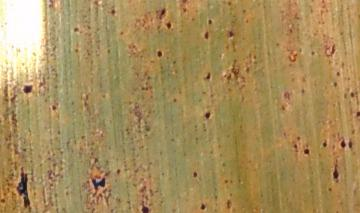tarspot: (15, 167, 31, 208), (91, 176, 106, 190), (331, 162, 339, 180), (21, 83, 34, 94), (159, 7, 166, 20), (155, 48, 164, 58), (203, 110, 212, 120), (226, 27, 235, 37), (302, 146, 311, 156), (339, 136, 346, 148), (140, 205, 150, 213), (204, 72, 212, 81), (199, 203, 208, 211), (203, 31, 210, 41), (50, 103, 58, 111), (72, 24, 79, 33), (166, 21, 173, 30), (348, 89, 355, 98), (105, 46, 112, 55), (280, 103, 287, 112), (110, 6, 116, 16), (181, 5, 188, 13), (332, 79, 338, 88), (1, 197, 8, 204), (292, 143, 299, 150), (310, 49, 317, 56), (349, 137, 353, 149), (300, 86, 306, 94), (207, 18, 213, 25), (192, 171, 198, 178), (326, 186, 333, 192), (171, 97, 178, 103), (118, 30, 125, 36), (73, 47, 80, 53), (323, 140, 328, 148), (297, 133, 302, 141), (355, 110, 360, 118), (226, 1, 232, 7), (335, 70, 340, 77), (116, 168, 120, 174)
